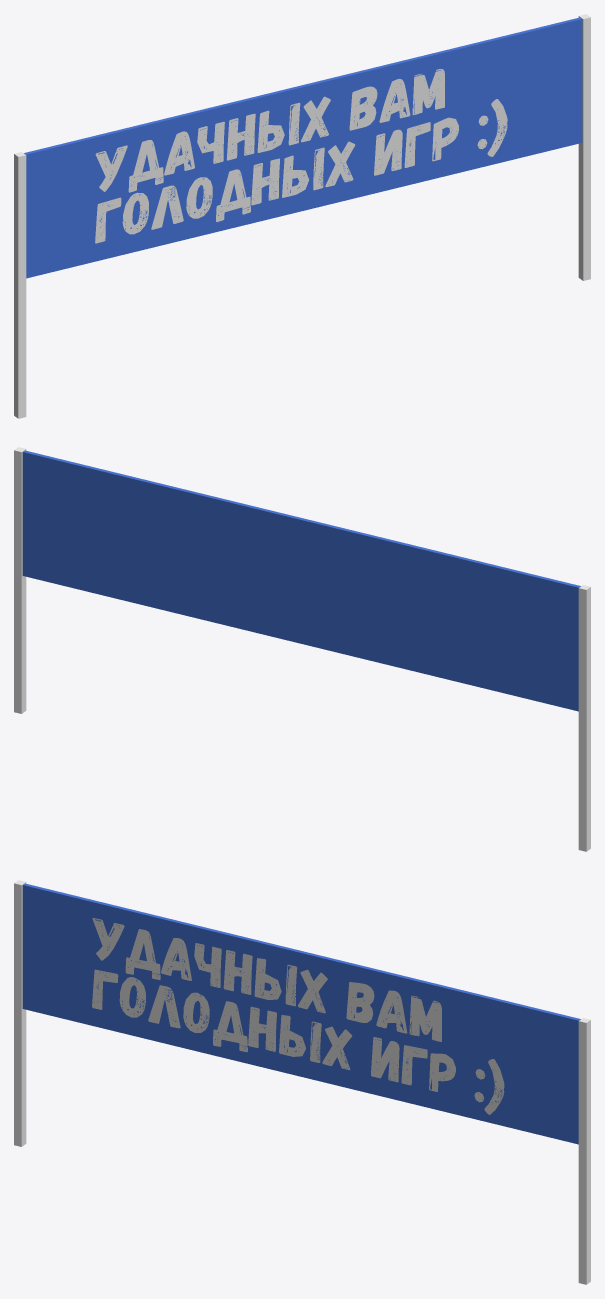
Rendered from StartTitle.fbx.
3 views of the same model, one above another, from view 1: azimuth 30°, elevation 25°; view 2: azimuth 150°, elevation 25°; view 3: azimuth 330°, elevation 25° (orthographic).
Visible parts, largest first — view 1: Cube.002, Text, Cube.003, Cube.001; view 2: Cube.002, Cube.003, Cube.001; view 3: Cube.002, Text, Cube.001, Cube.003.
Boxes of the visible parts, x1,y1,x2,y2 form: Cube.002: [24, 17, 582, 278]; Text: [95, 69, 507, 243]; Cube.003: [14, 152, 26, 418]; Cube.001: [578, 14, 590, 280]; Cube.002: [22, 450, 580, 711]; Cube.003: [578, 585, 590, 851]; Cube.001: [14, 447, 26, 713]; Cube.002: [22, 883, 580, 1144]; Text: [92, 918, 504, 1114]; Cube.001: [578, 1018, 590, 1284]; Cube.003: [14, 880, 26, 1146].
Size of the model in its own units: 520 by 227 by 7.
